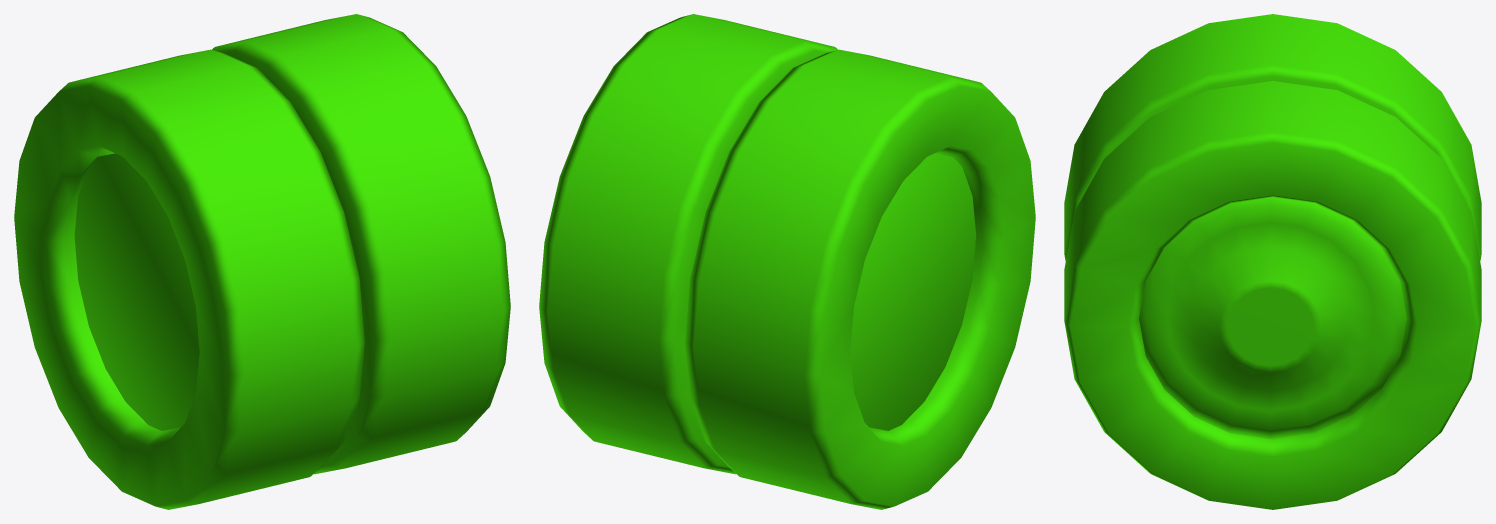
The model's file is Truck_Wheel_02.fbx.
The picture shows the model from 3 angles, left to right: view 1: azimuth 30°, elevation 25°; view 2: azimuth 150°, elevation 25°; view 3: azimuth 270°, elevation 25°; orthographic projection. The views are drawn at different scales.
Visible parts, largest first — view 1: Truck_Wheel_02; view 2: Truck_Wheel_02; view 3: Truck_Wheel_02.
Boxes of the visible parts, box(x1,y1,x2,y2) form: Truck_Wheel_02: box(14, 14, 510, 509); Truck_Wheel_02: box(539, 14, 1035, 509); Truck_Wheel_02: box(1064, 14, 1481, 509).
Bounding box in the file's own units: 87.72 × 120 × 120.
